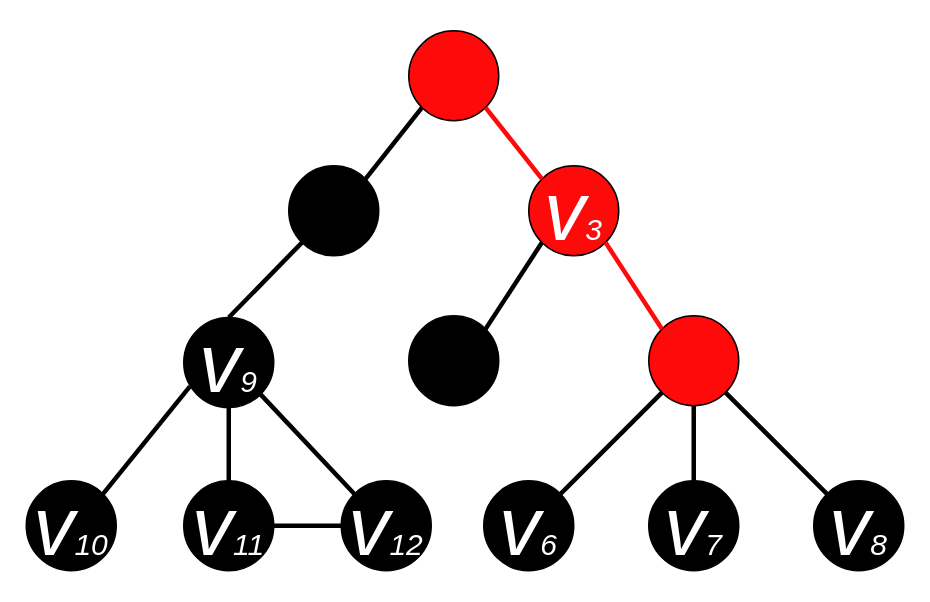
Some shapes in this 930 by 602 pixel diagram are drawn without their labels. The shapes that lost their labels are listed below. From the top down, each one's centre as x and y in pixels, then its label:
At [453,75]: "v 1".
At [333,210]: "v 2".
At [453,360]: "v 4".
At [693,360]: "v 5".
